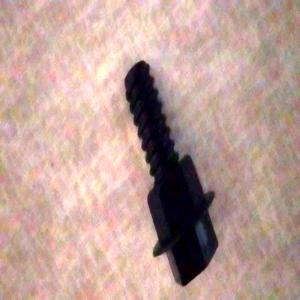parafuso: (122, 58, 219, 286)
